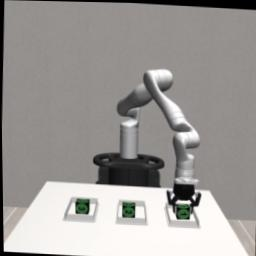cube1: (175, 203, 191, 219)
cube2: (120, 201, 136, 218)
cube3: (74, 198, 89, 215)
